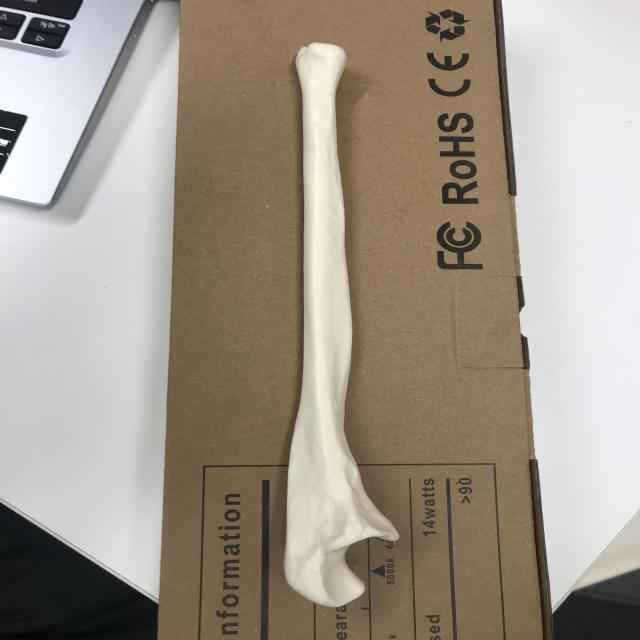bone: (260, 39, 404, 612)
